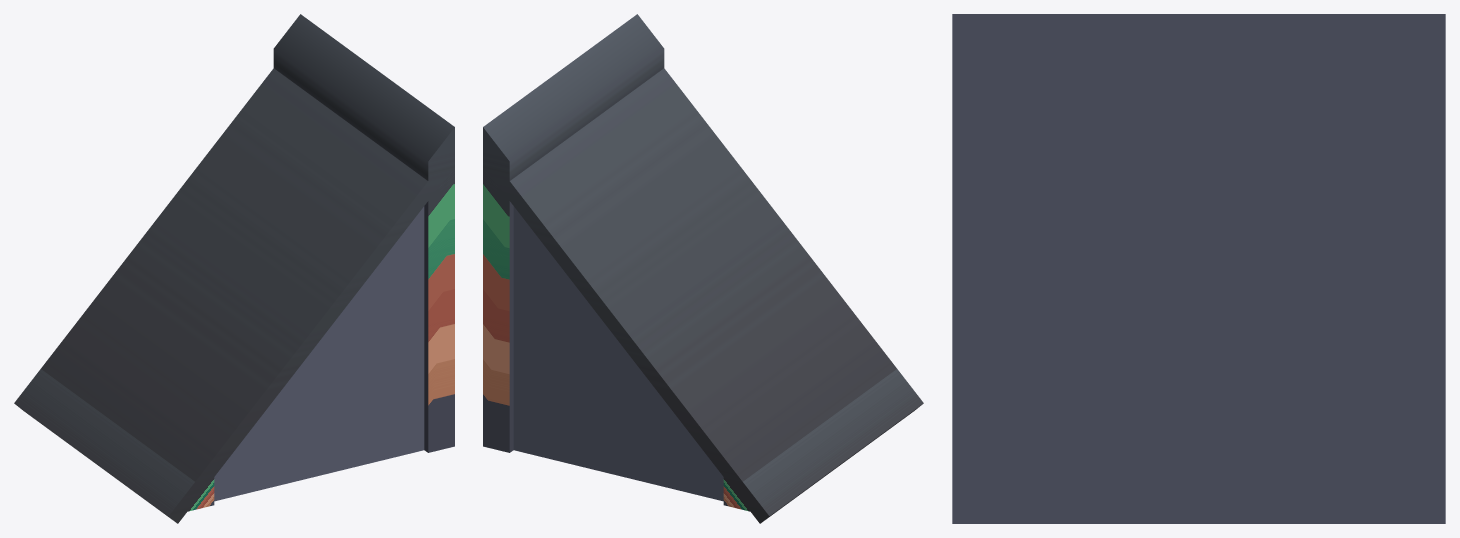
File: roof-high.glb
3 renders of one model, left to right at view 1: azimuth 30°, elevation 25°; view 2: azimuth 150°, elevation 25°; view 3: azimuth 270°, elevation 25°, orthographic. The views are drawn at different scales.
Visible parts, largest first — view 1: roof-high; view 2: roof-high; view 3: roof-high.
Boxes of the visible parts, x1,y1,x2,y2 form: roof-high: [14, 14, 454, 523]; roof-high: [483, 14, 923, 523]; roof-high: [952, 14, 1445, 523].
Size of the model in its own units: 1.07 by 1.18 by 1.
Materials: 1 (1 with a texture image).
